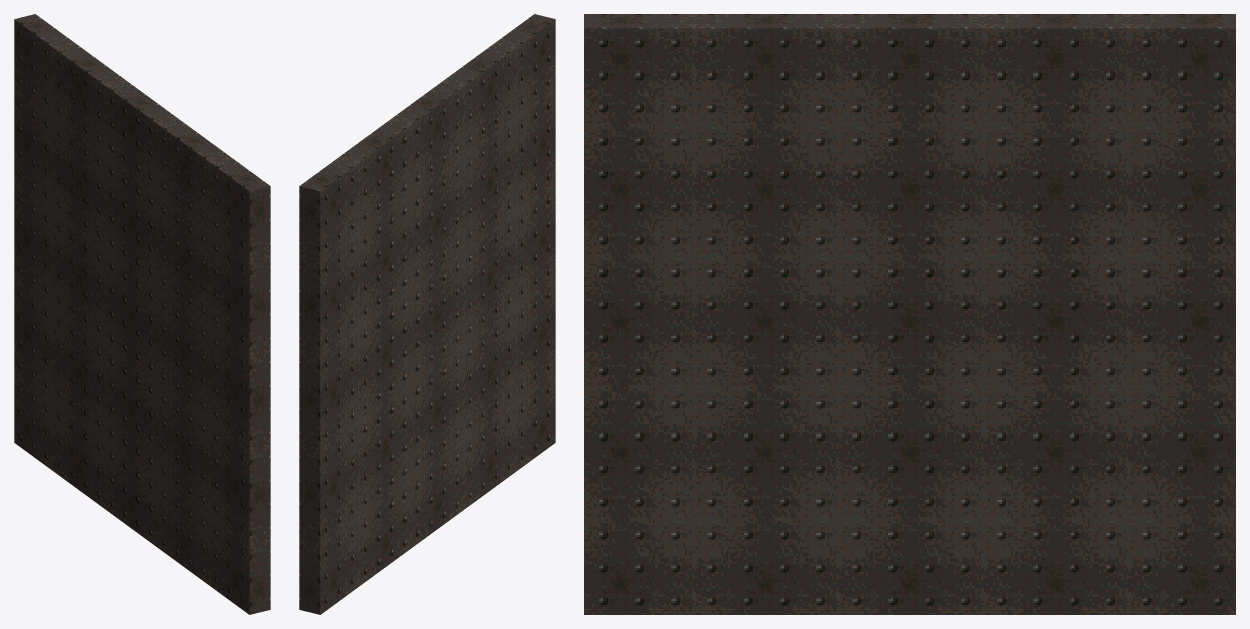
Rendered from TheDoor.glb.
3 renders of one model, left to right at view 1: azimuth 30°, elevation 25°; view 2: azimuth 150°, elevation 25°; view 3: azimuth 270°, elevation 25°, orthographic. The views are drawn at different scales.
Parts seen in each view (by area): view 1: TheDoor; view 2: TheDoor; view 3: TheDoor.
Boxes of the visible parts, box(x1,y1,x2,y2) form: TheDoor: box(14, 14, 270, 614); TheDoor: box(299, 14, 555, 614); TheDoor: box(584, 14, 1235, 614).
Size of the model in its own units: 15 by 286 by 288.
1 material, 1 textured.
